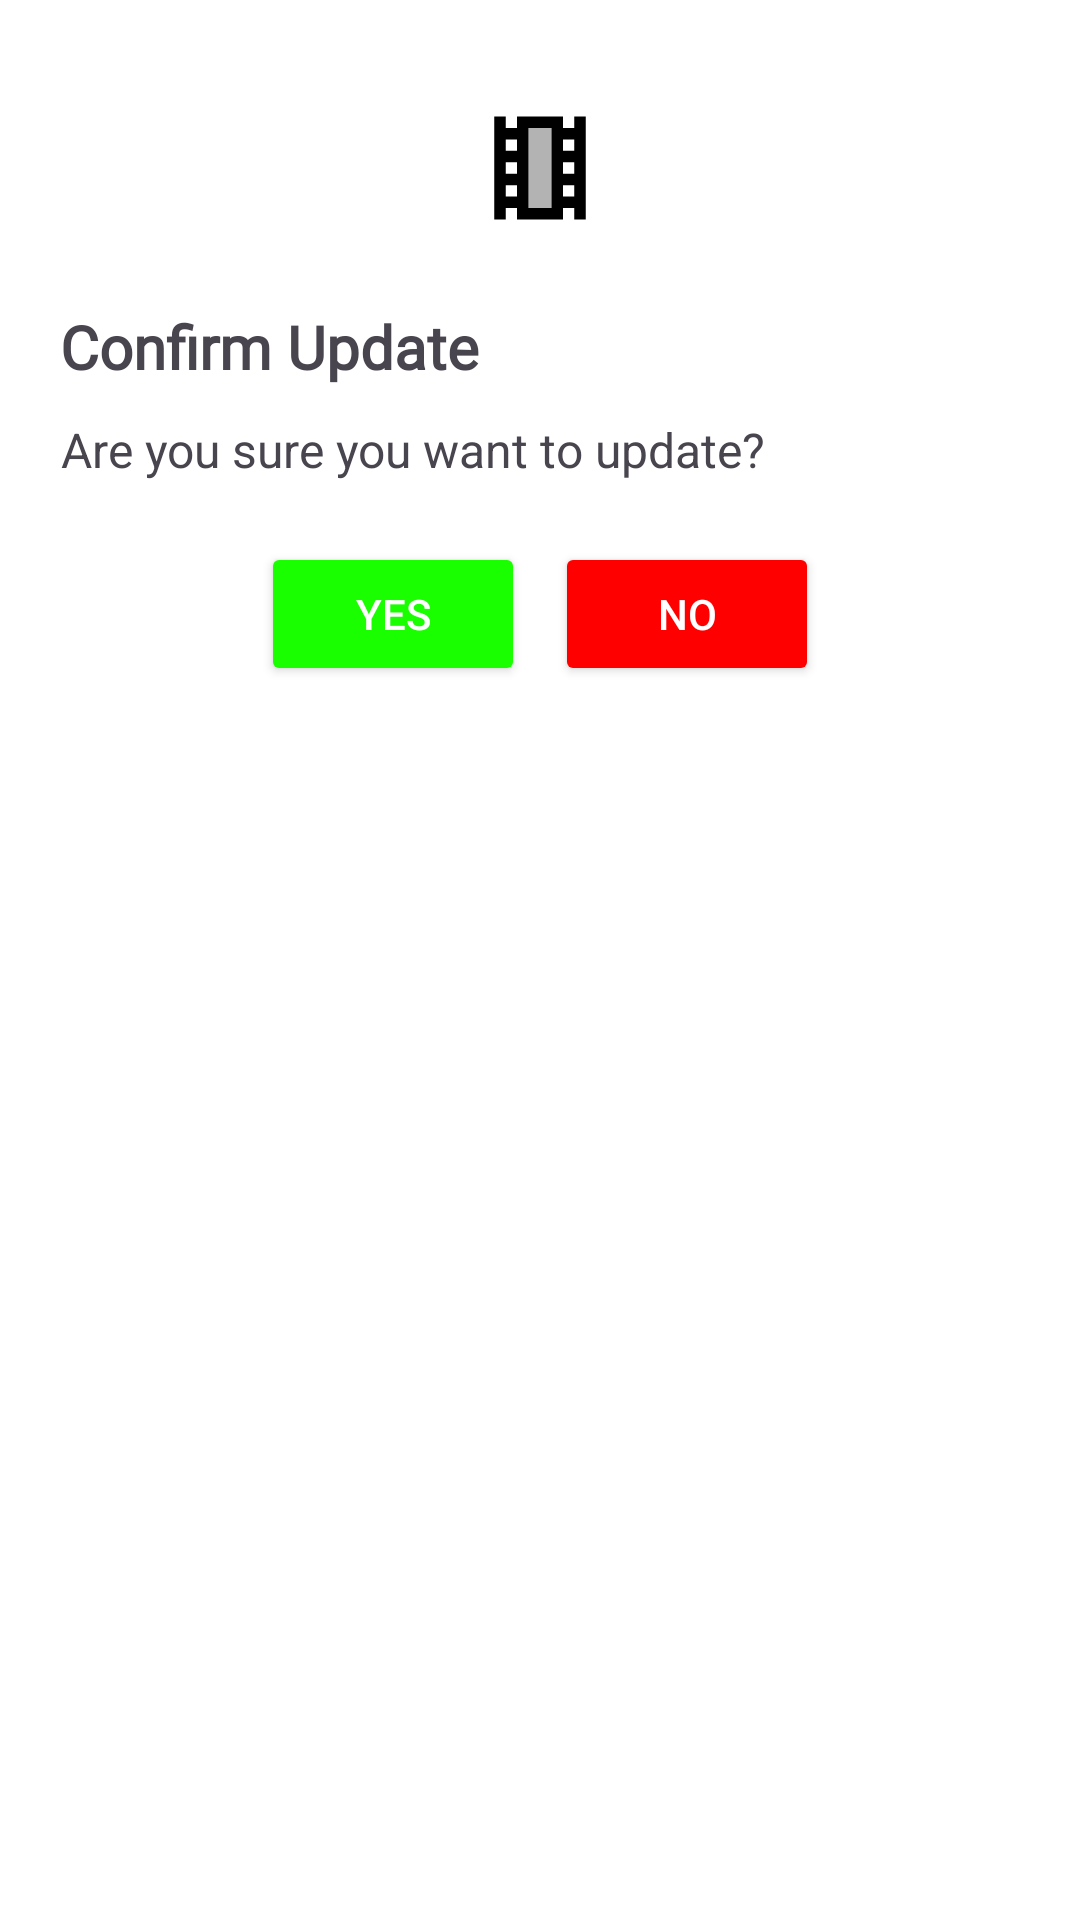

Screen size 1080px x 1920px. Icon name, then its box in pixels as (x1, y1, x2, y2):
film hunt: (494, 116, 586, 220)
